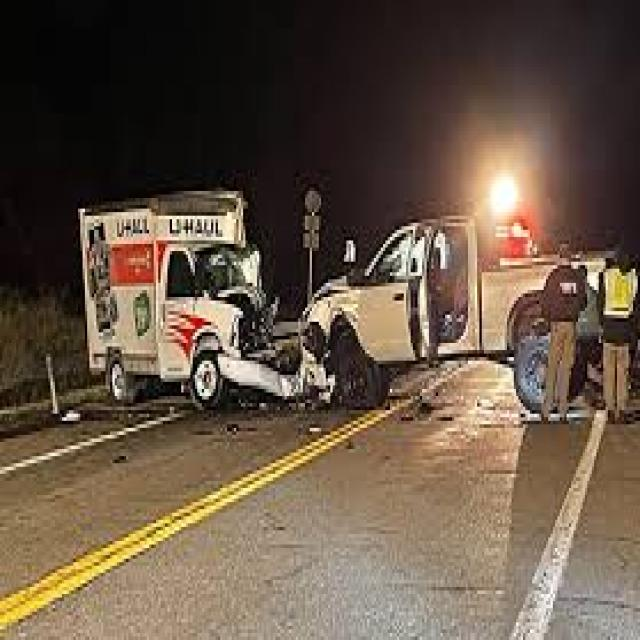accident: (82, 197, 490, 429)
